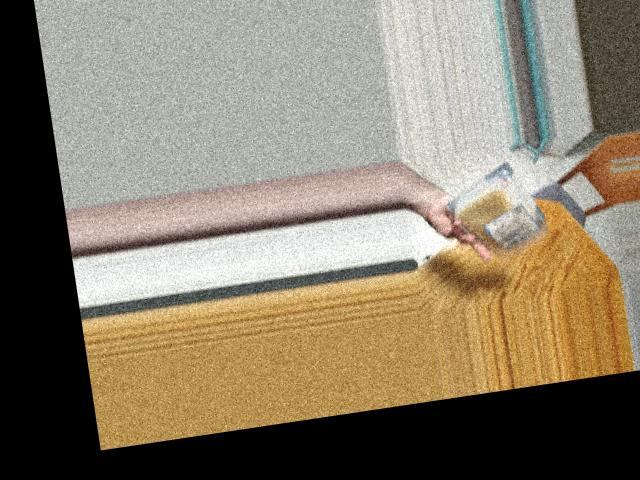cheese: (451, 174, 546, 257)
